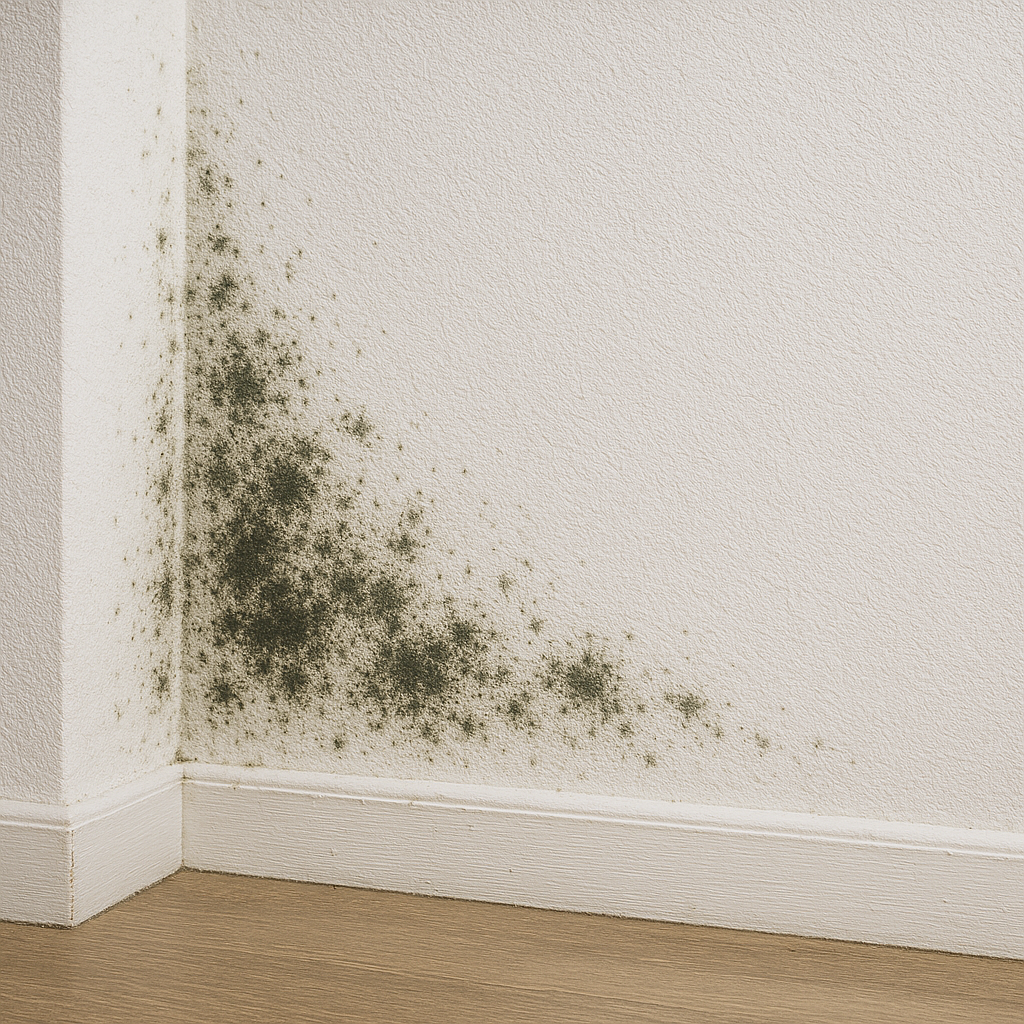schimmel: (218, 450, 340, 708), (198, 234, 285, 435), (331, 533, 432, 634), (366, 647, 473, 730), (541, 636, 640, 711)
